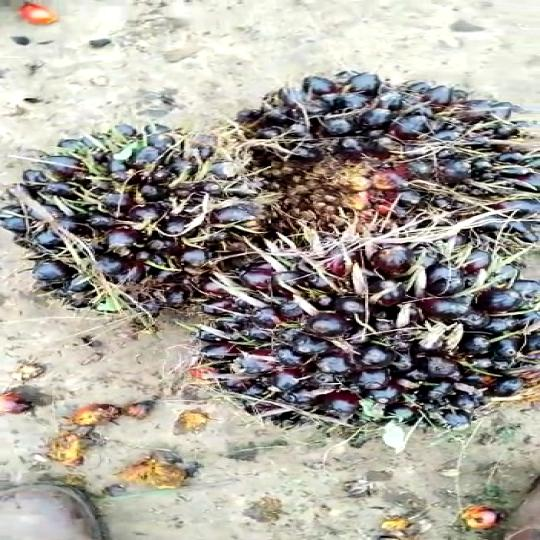mentah: (184, 239, 528, 434), (216, 66, 540, 258), (4, 104, 269, 314)
